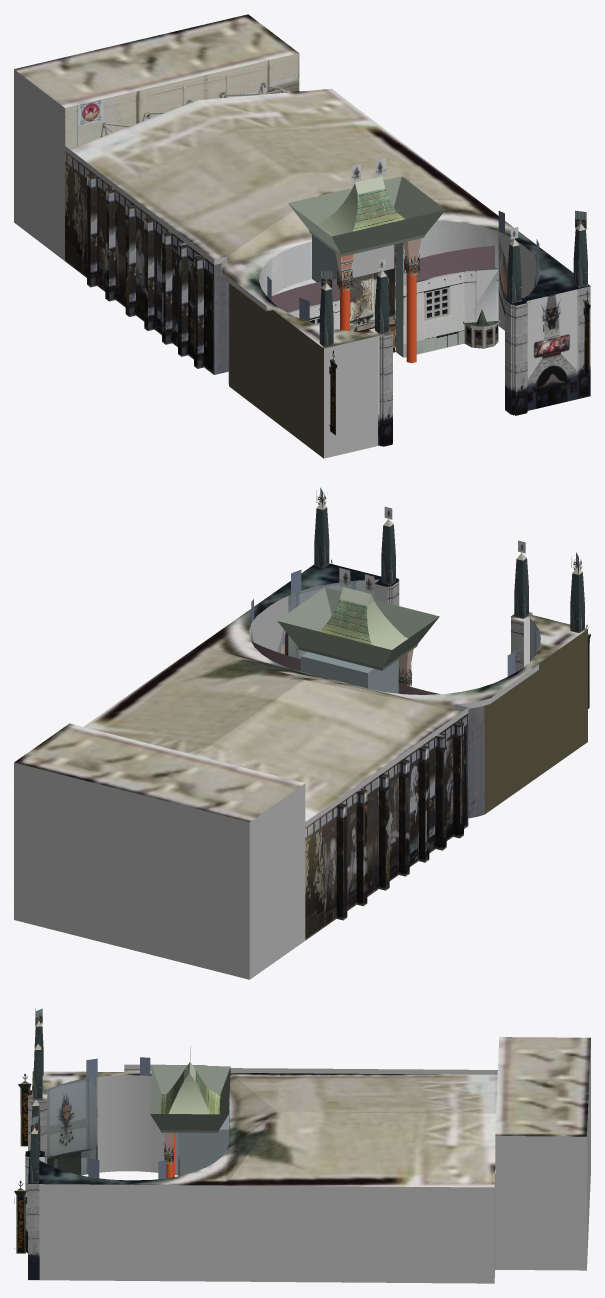
File: MANNS+CHINESE+THEATER.obj
3 views of the same model, one above another, from view 1: azimuth 30°, elevation 25°; view 2: azimuth 150°, elevation 25°; view 3: azimuth 270°, elevation 25° (orthographic). The views are drawn at different scales.
Visible parts, largest first — view 1: Mesh9 Group1 Model, Mesh10 Group1 Model, Mesh11 Group1 Model, Mesh2 cone1_1 Group1 Model, Mesh5 cone2_1 Group1 Model, Mesh7 cone2_2 Group1 Model, Mesh4 cone1_2 Group1 Model, Mesh12 Group1 Model; view 2: Mesh9 Group1 Model, Mesh10 Group1 Model, Mesh2 cone1_1 Group1 Model, Mesh5 cone2_1 Group1 Model, Mesh7 cone2_2 Group1 Model, Mesh4 cone1_2 Group1 Model; view 3: Mesh9 Group1 Model, Mesh10 Group1 Model, Mesh13 Group1 Model, Mesh14 Group1 Model, Mesh7 cone2_2 Group1 Model, Mesh2 cone1_1 Group1 Model.
Part boxes in pixels (x1,y1,x2,y2): Mesh9 Group1 Model: (14, 14, 590, 458); Mesh10 Group1 Model: (288, 157, 445, 256); Mesh11 Group1 Model: (403, 238, 421, 363); Mesh2 cone1_1 Group1 Model: (573, 223, 587, 287); Mesh5 cone2_1 Group1 Model: (507, 239, 521, 303); Mesh7 cone2_2 Group1 Model: (375, 270, 389, 334); Mesh4 cone1_2 Group1 Model: (319, 283, 333, 347); Mesh12 Group1 Model: (335, 252, 354, 331); Mesh9 Group1 Model: (14, 563, 587, 979); Mesh10 Group1 Model: (277, 567, 439, 670); Mesh2 cone1_1 Group1 Model: (314, 502, 329, 568); Mesh5 cone2_1 Group1 Model: (381, 519, 395, 585); Mesh7 cone2_2 Group1 Model: (514, 553, 528, 618); Mesh4 cone1_2 Group1 Model: (570, 567, 584, 633); Mesh9 Group1 Model: (25, 1037, 590, 1283); Mesh10 Group1 Model: (149, 1046, 230, 1132); Mesh13 Group1 Model: (14, 1180, 27, 1253); Mesh14 Group1 Model: (18, 1073, 31, 1146); Mesh7 cone2_2 Group1 Model: (33, 1044, 42, 1099); Mesh2 cone1_1 Group1 Model: (30, 1128, 39, 1183).
Size of the model in its own units: 42.17 by 28.84 by 87.03.
